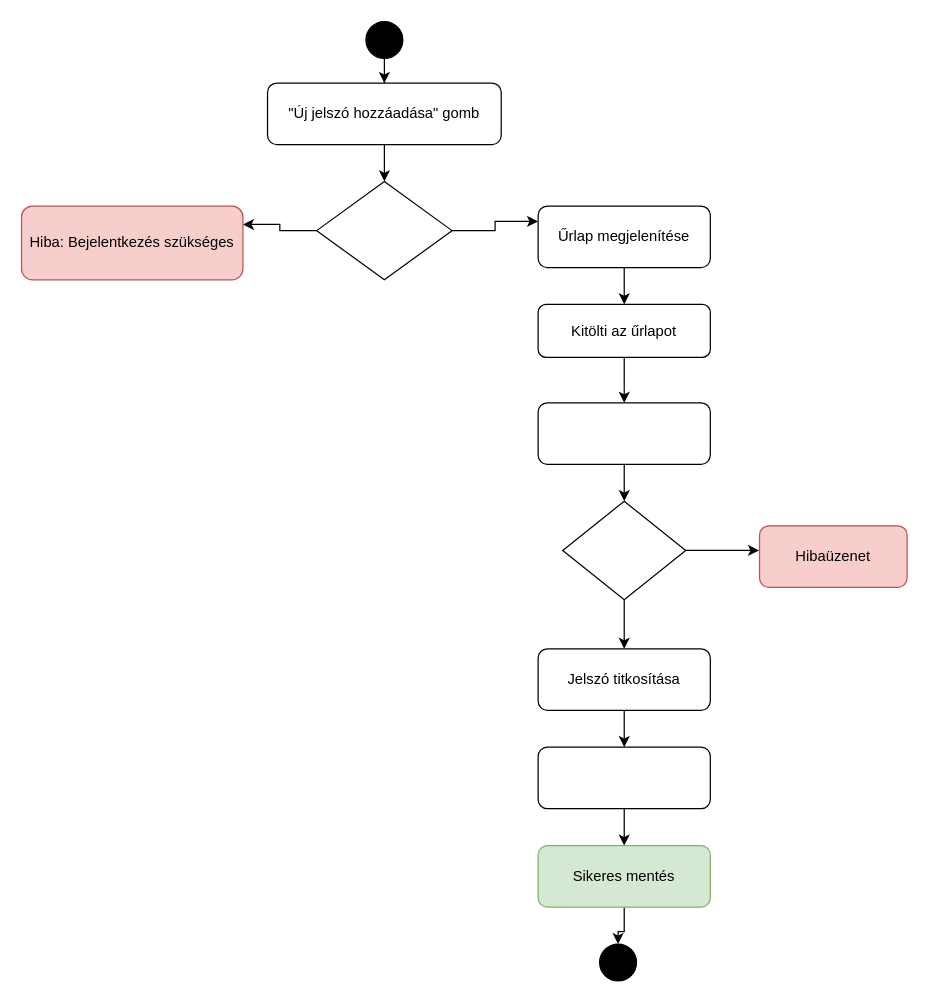
This 929x1002 diagram has some shape labels left out. The shapes that lost their labels are listed below. From the top down, each one's centre as x and y in pixels, then its label:
the point at 383,230: Bejelentkezett?
the point at 623,433: "Mentés" gomb
the point at 623,550: Üres mezők?
the point at 623,777: Mentés adatbázisba
